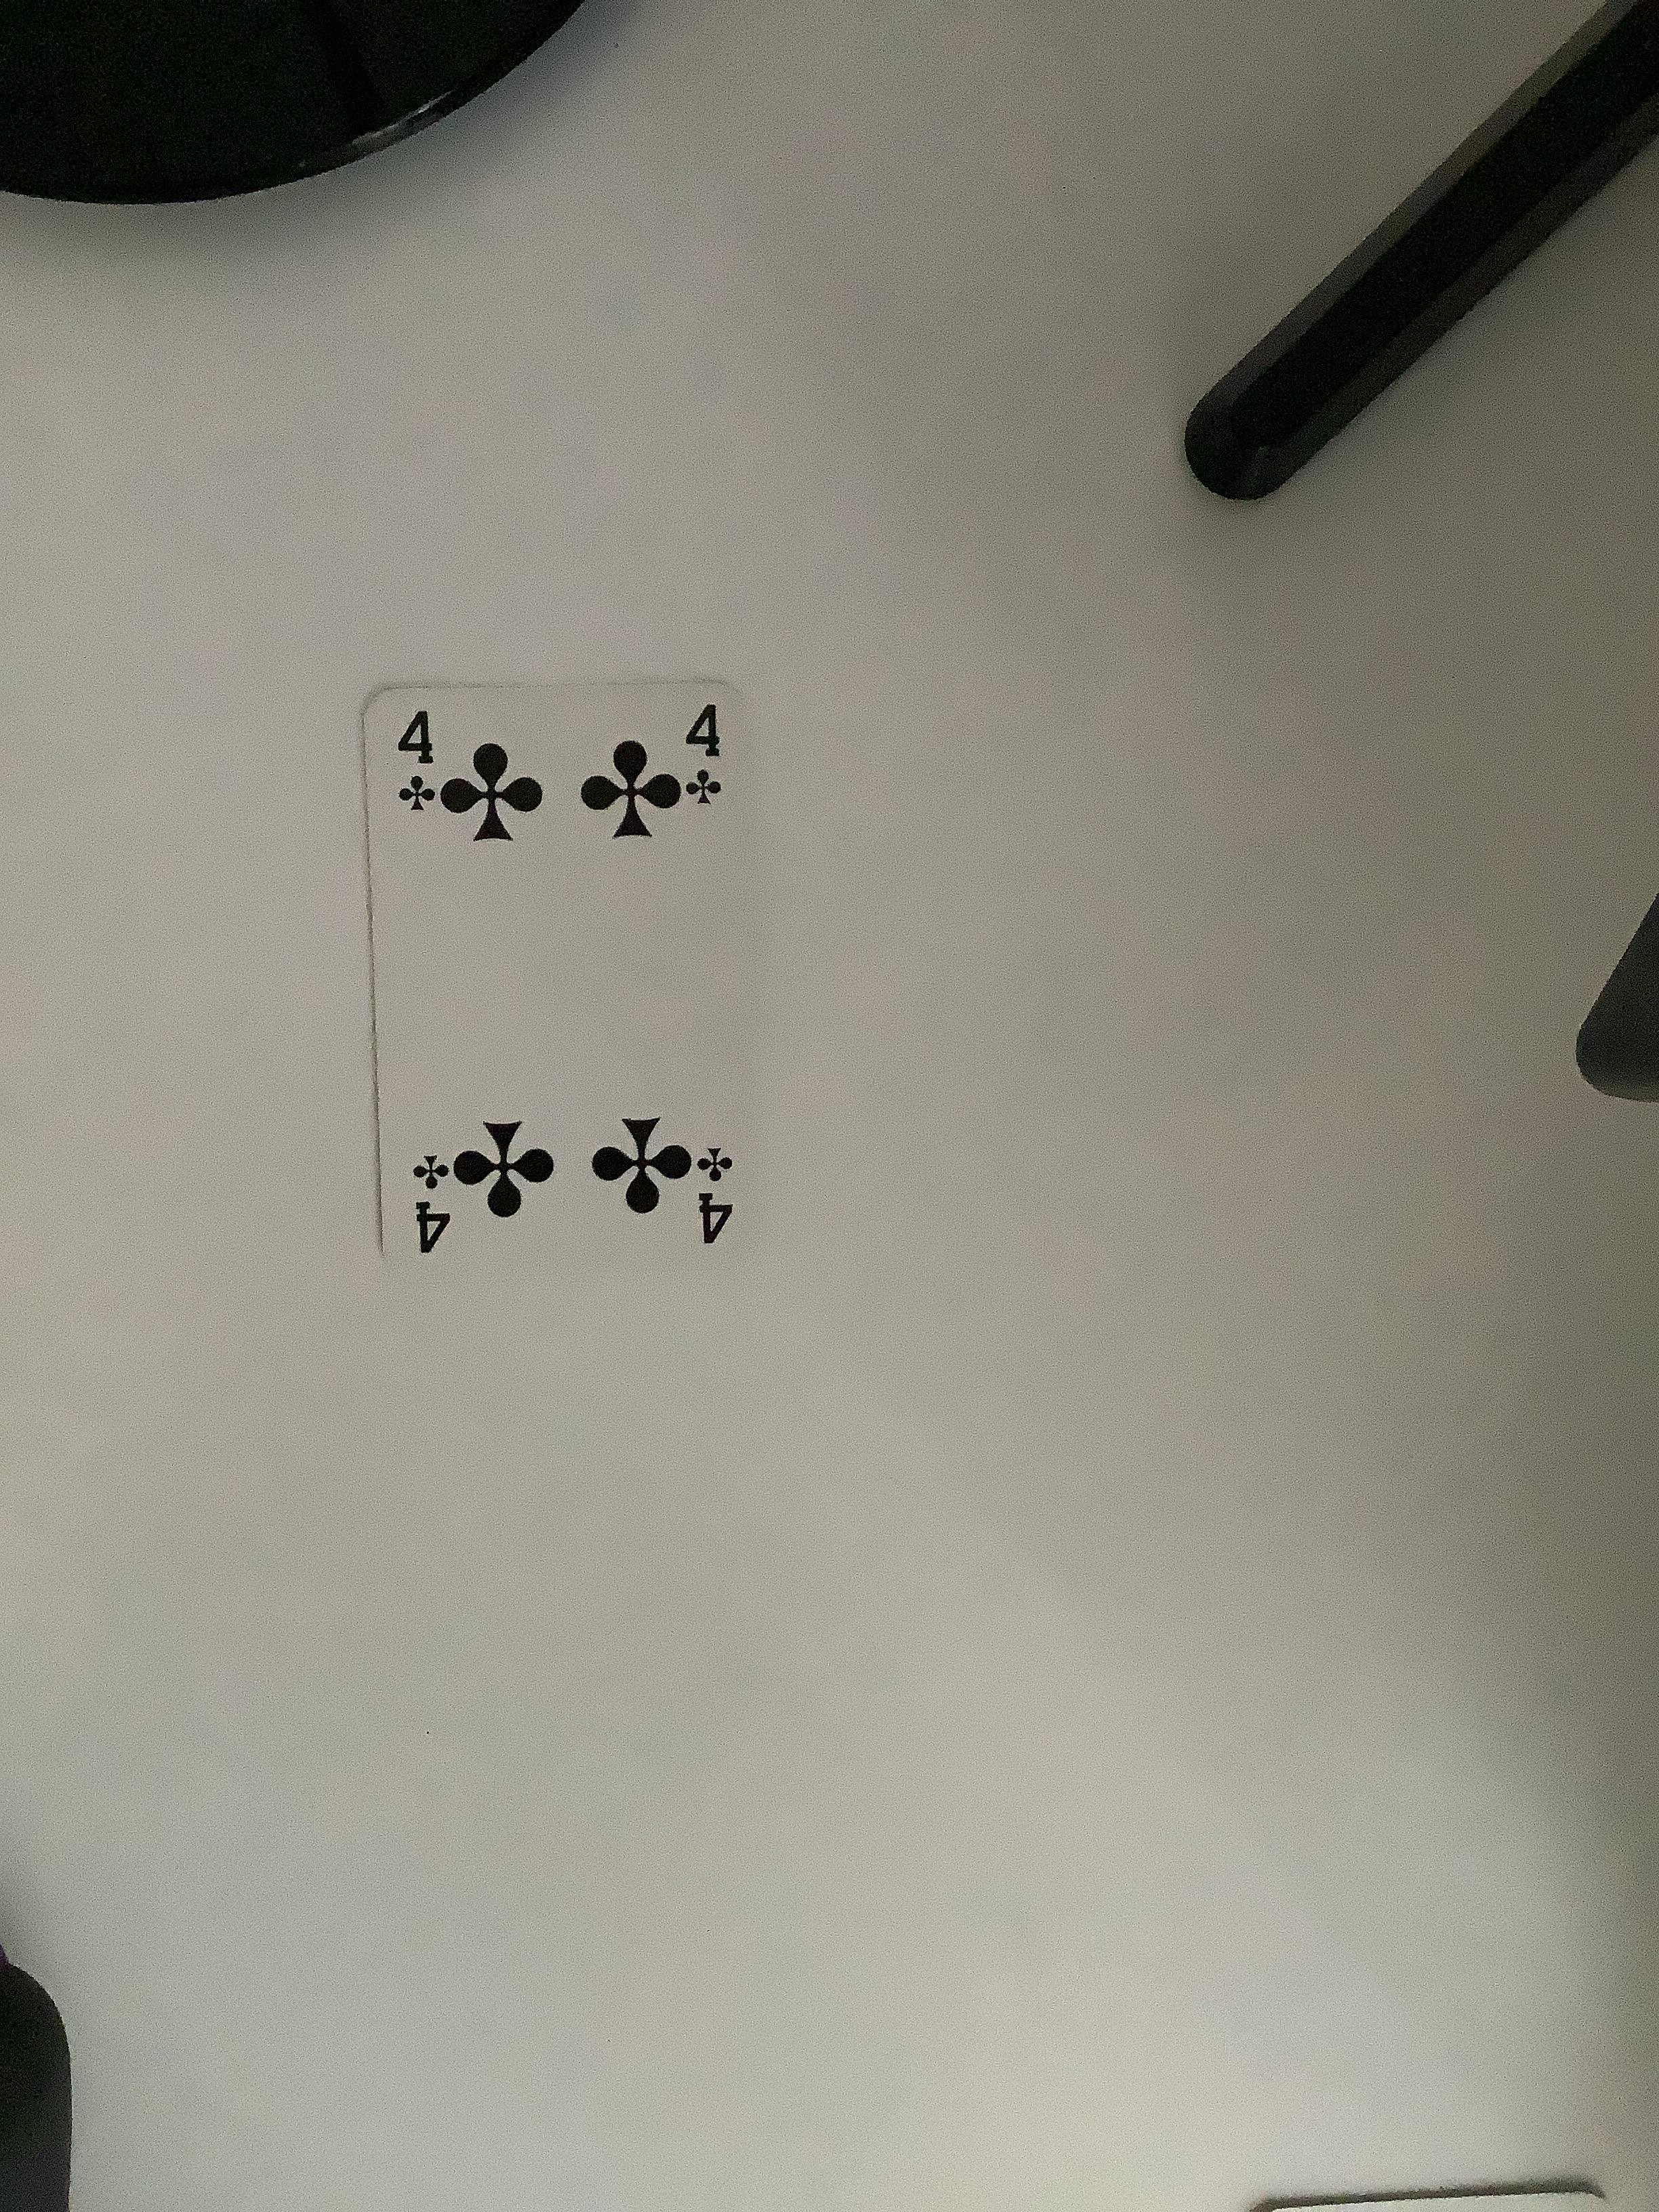♣ 4: (333, 664, 791, 1312)
